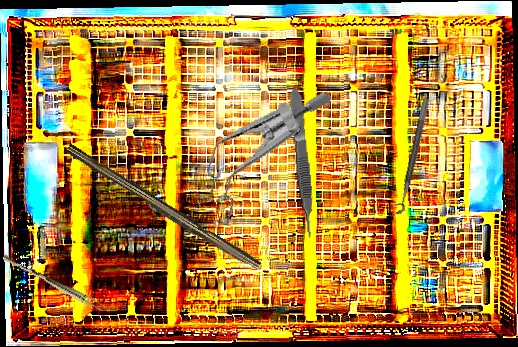Fixation Ring: (386, 95, 431, 216)
Scalpel Handle: (61, 143, 264, 274)
Speculum: (186, 63, 333, 250)
Tissue Forceps: (0, 253, 107, 313), (287, 88, 317, 239)
